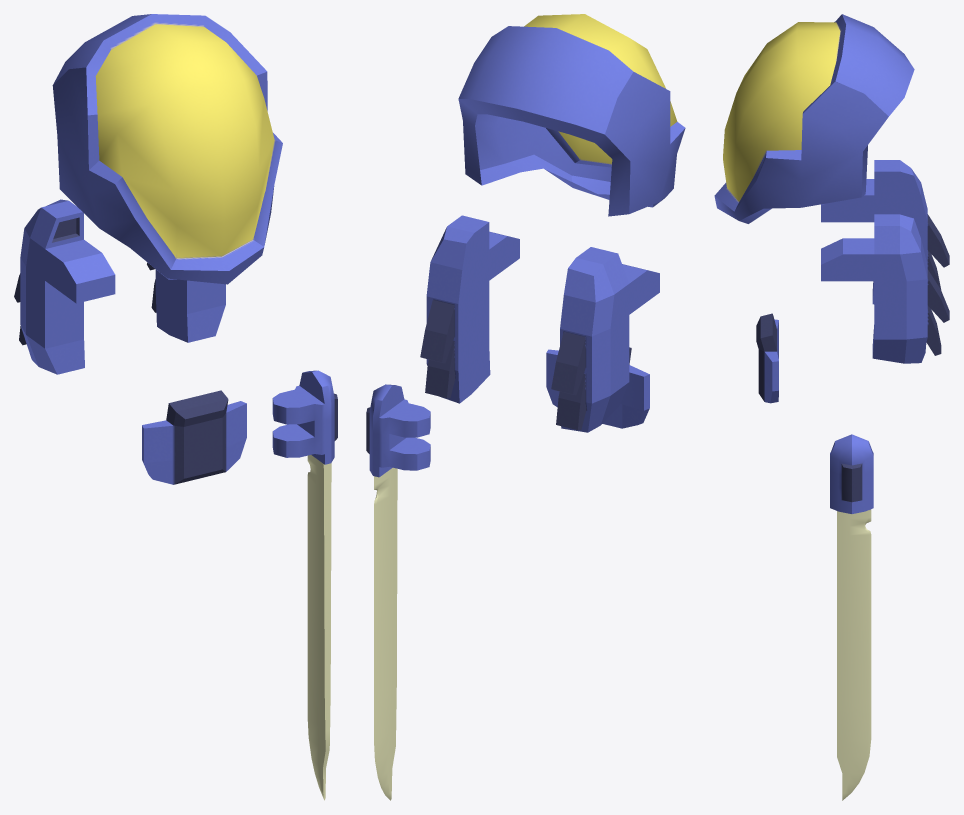
File: Swordsman.FBX
3 views of the same model, side by side, from view 1: azimuth 30°, elevation 25°; view 2: azimuth 150°, elevation 25°; view 3: azimuth 270°, elevation 25° (orthographic). The views are drawn at different scales.
Parts seen in each view (by area): view 1: Head, Back, Sword, Belly; view 2: Head, Back, Sword, Belly; view 3: Head, Back, Sword, Belly.
Boxes of the visible parts, x1,y1,x2,y2 form: Head: (52,14,282,284); Back: (14,199,225,374); Sword: (272,370,337,800); Belly: (142,390,246,484); Head: (458,14,685,216); Back: (420,215,659,432); Sword: (366,384,430,800); Belly: (546,347,649,428); Head: (714,14,914,223); Back: (821,160,949,363); Sword: (830,434,873,800); Belly: (756,313,778,403).
Size of the model in its own units: 64.38 by 182 by 55.12.
1 material, 1 textured.
